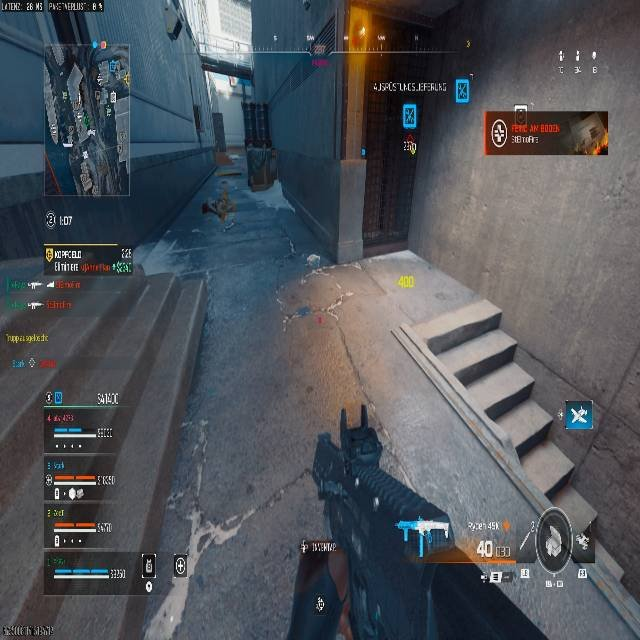player: (201, 192, 239, 232)
